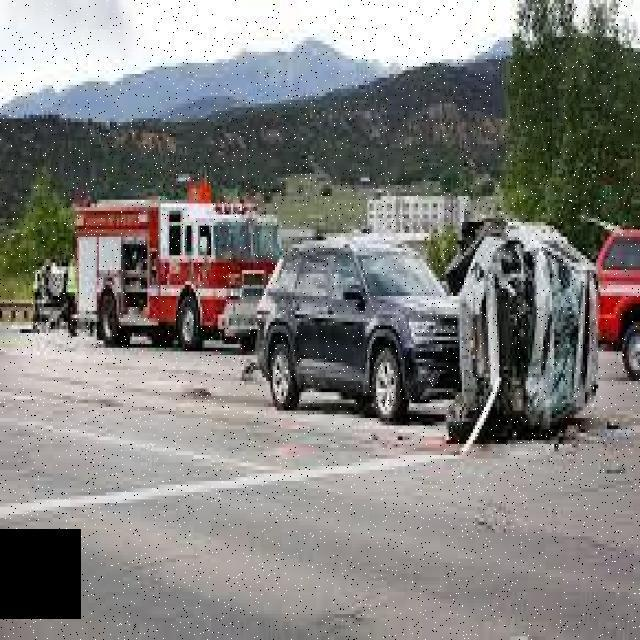accident: (251, 221, 603, 446)
